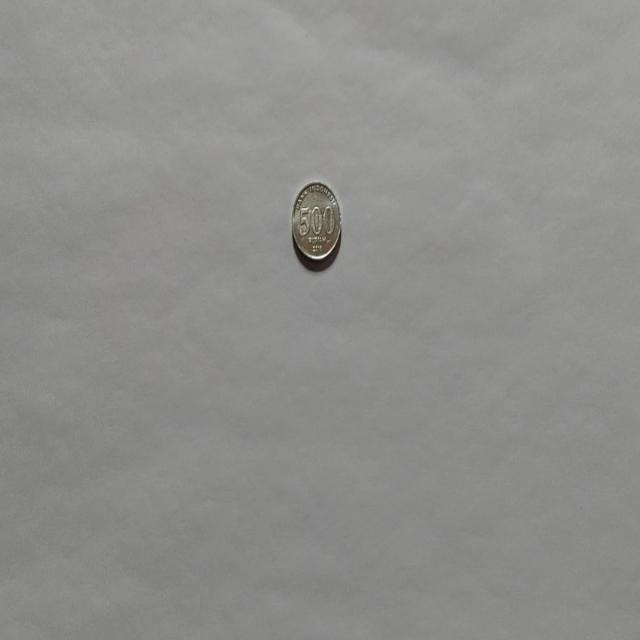lima ratus rupiah: (290, 178, 342, 264)
